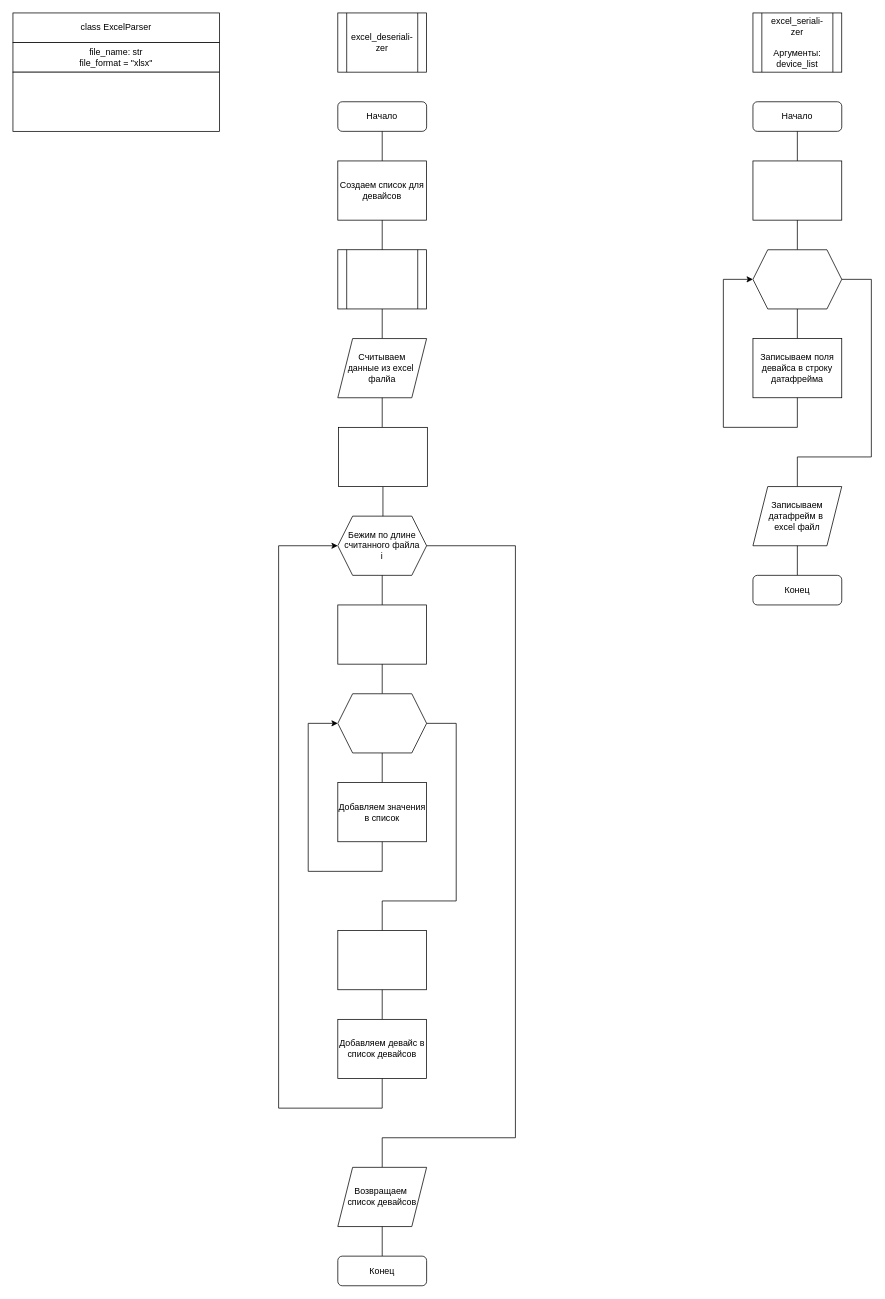
This 885x1299 diagram has some shape labels left out. The box of each missing label's shape, as (x1, y1, x2, y2) in pixels:
get_file_name set_file_name get_full_name excel_deserializer excel_serializer: (12, 71, 219, 131)
get_full_file_ name получаем имя файла: (337, 249, 427, 309)
Бежим по строке, считанной из файла под индексом i: (337, 693, 427, 753)
Пробегаем по списку девайсов: (752, 249, 842, 309)
Создаем датафрейм для записи в excel с столбйами-полями изи класса Device: (752, 160, 842, 220)
Создаем девайс при помощи класса Device с полями из списка: (337, 930, 427, 990)
Создаем список для значений, считанных из файла: (337, 604, 427, 664)
Удаляем пустые строчки и столбцы в файле: (338, 427, 427, 487)
